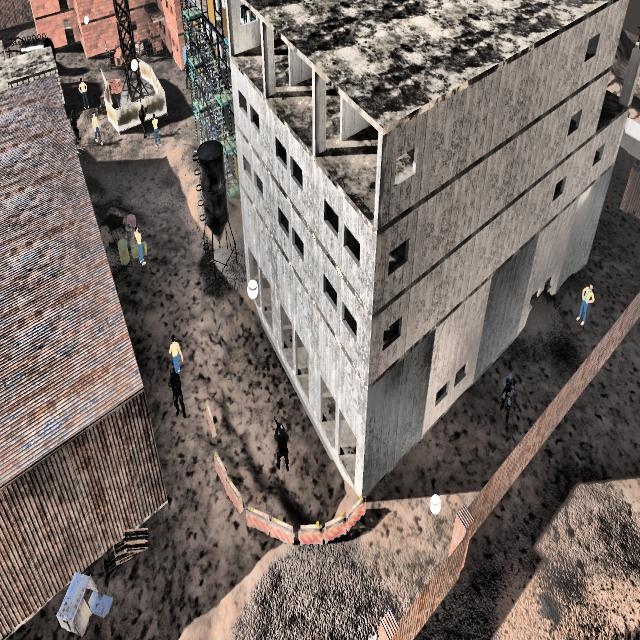bad: (264, 417, 295, 477), (166, 366, 187, 423), (498, 369, 518, 428), (66, 103, 82, 146), (136, 99, 150, 142), (183, 52, 193, 88)
good: (573, 272, 598, 332), (167, 327, 186, 367), (132, 216, 146, 267), (88, 112, 106, 149), (78, 73, 90, 112), (151, 110, 162, 147)
